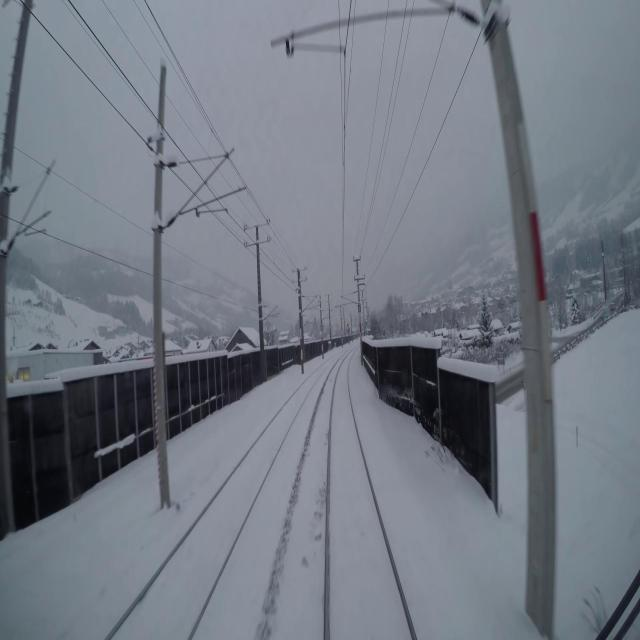rail-track: (112, 368, 322, 639), (329, 356, 411, 639)
